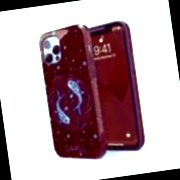iphone: (46, 23, 97, 159)
